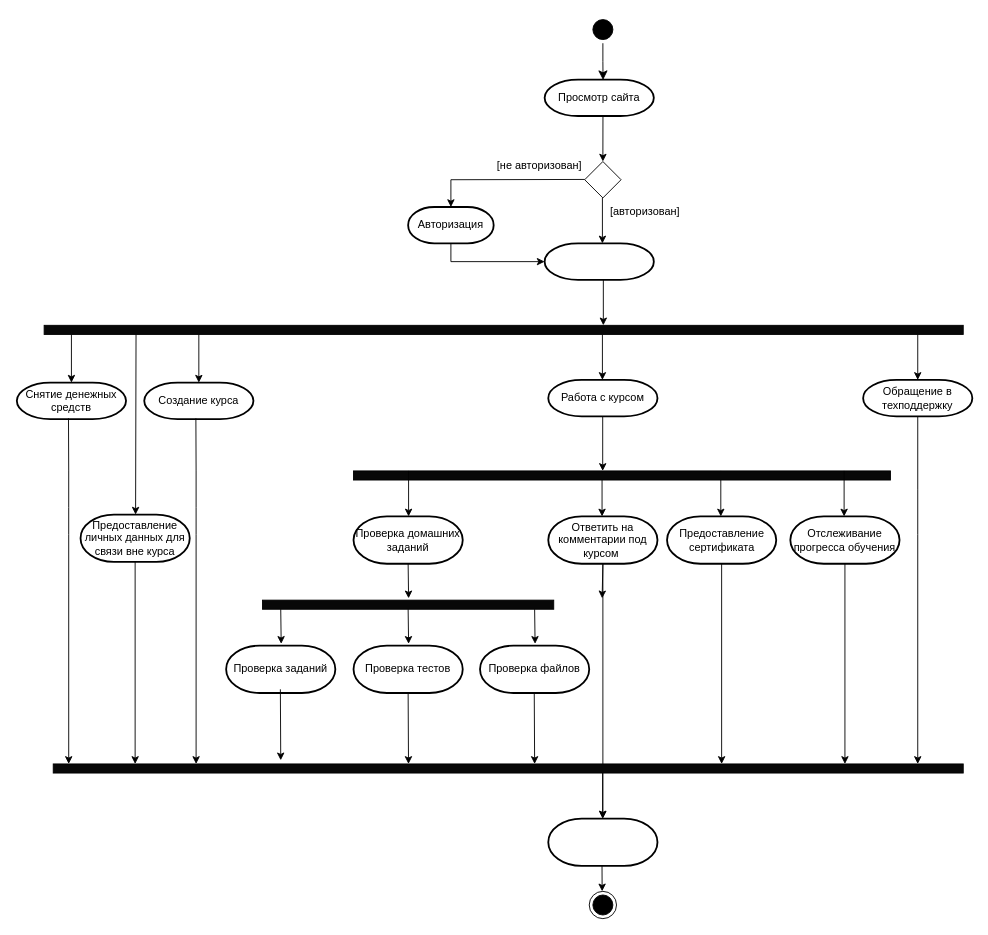
The diagram is 988 pixels wide and 935 high, and some of its shapes have lost their labels. Each missing label, with the centre of its shape:
"Работа в личном кабинете" goes at (598,261).
"Работа с сайтом от лица преподавателя" goes at (602,841).
